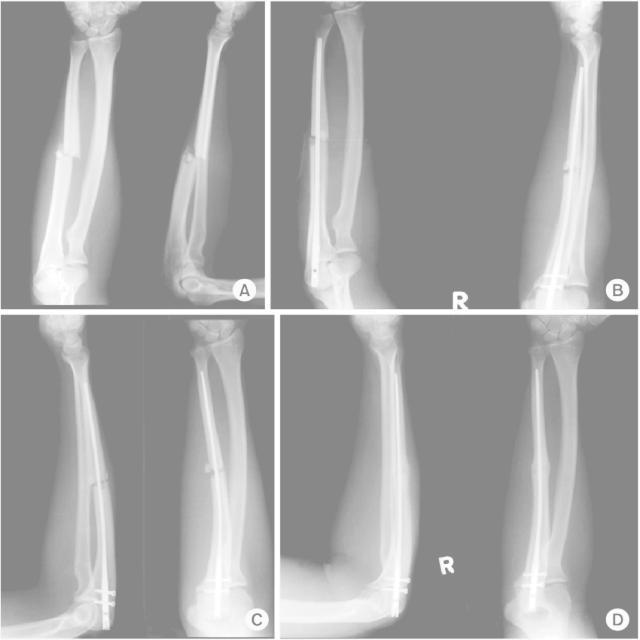Comminuted Fracture: (182, 422, 237, 503), (158, 121, 221, 181), (74, 447, 124, 515), (505, 431, 557, 496), (548, 137, 596, 195), (294, 106, 346, 159), (52, 121, 97, 181)
